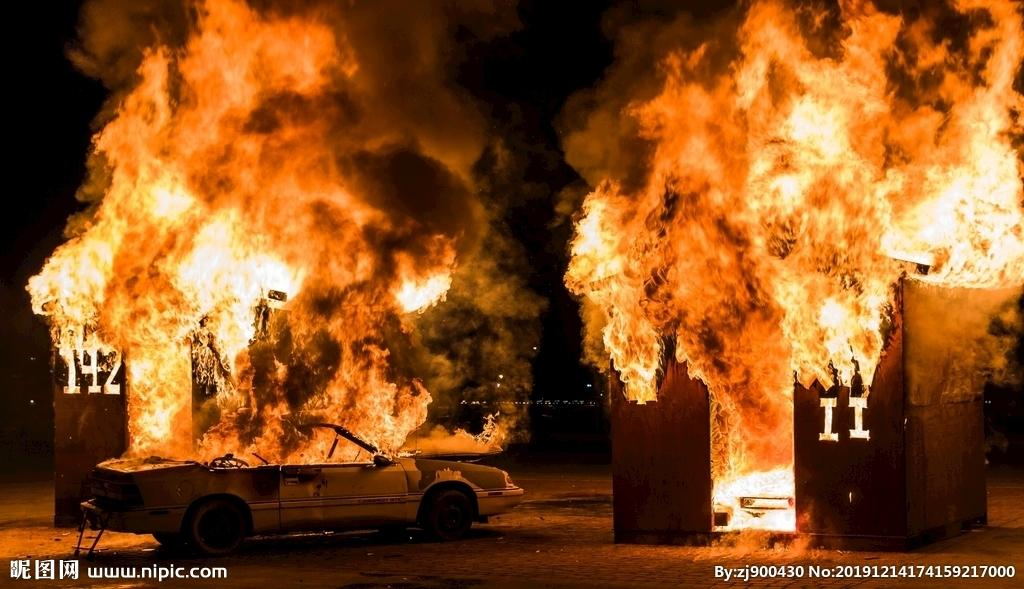fire: (21, 0, 1024, 472)
